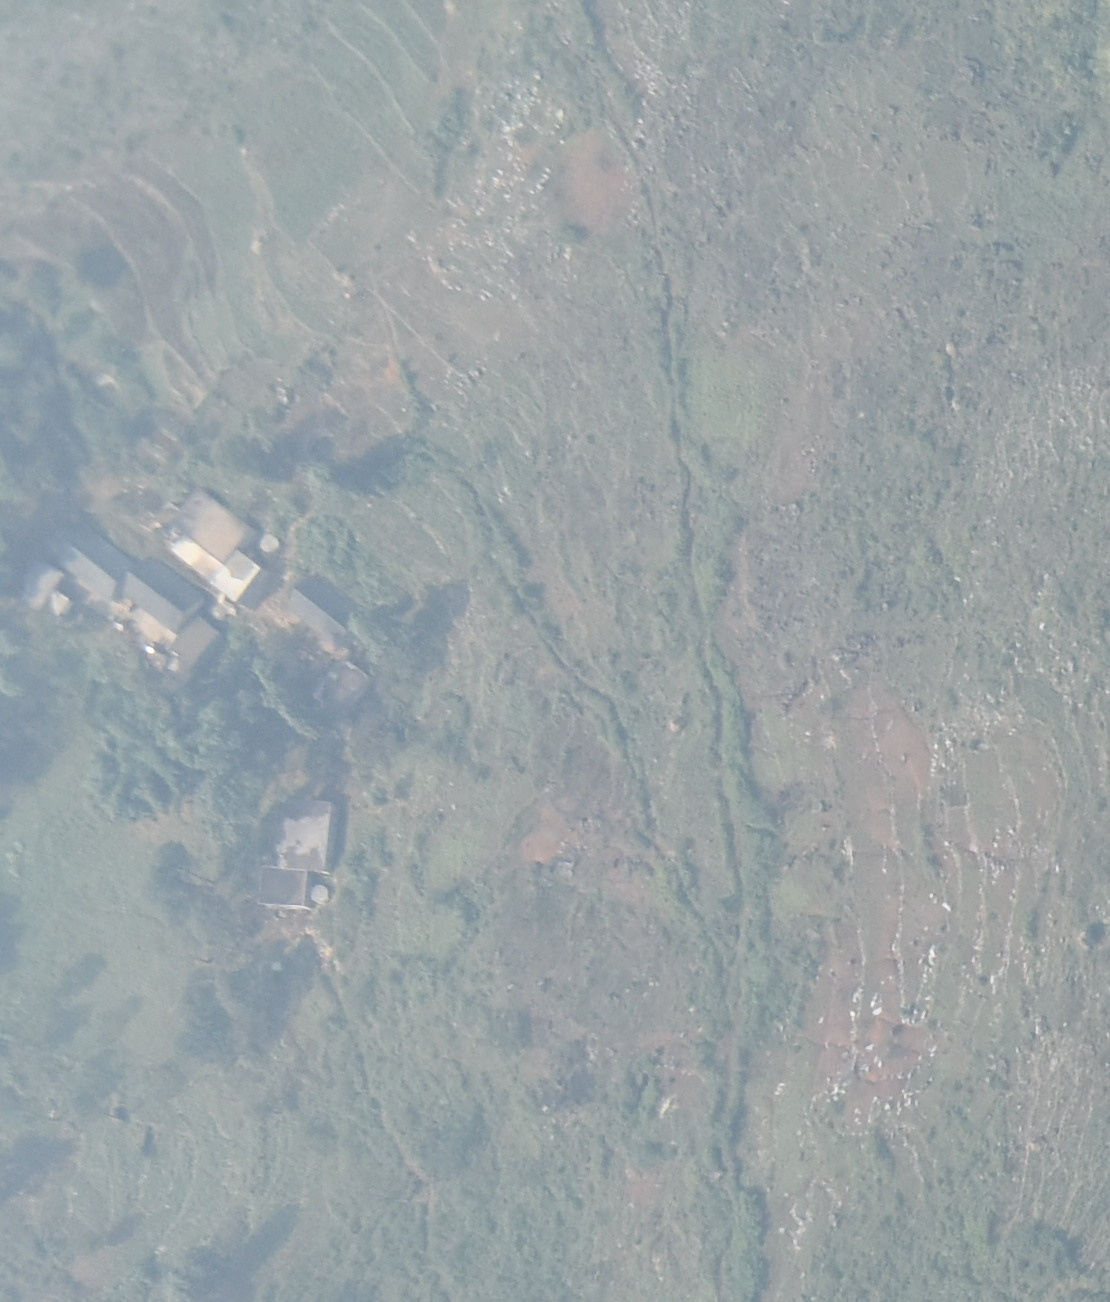building: (44, 517, 138, 603), (121, 552, 216, 631), (175, 487, 258, 558), (270, 794, 341, 871), (286, 578, 364, 639), (308, 658, 377, 721), (254, 862, 311, 916), (172, 617, 224, 662)
well: (259, 530, 281, 553), (311, 883, 331, 905)
